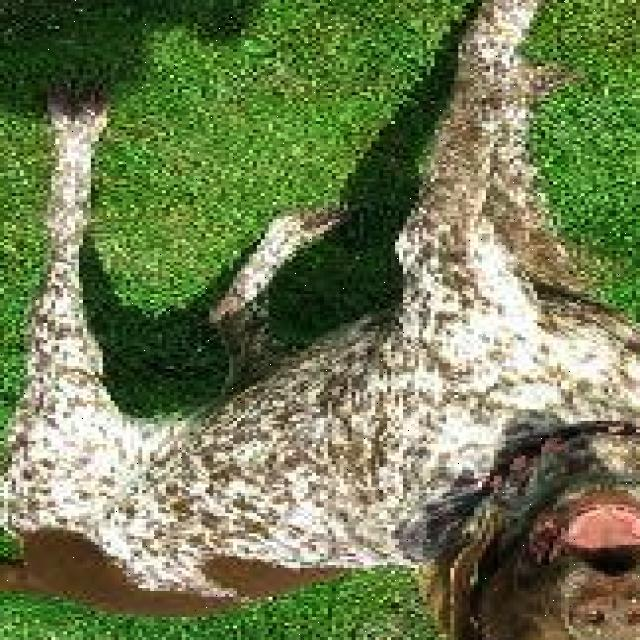Dog: (399, 432, 640, 640)
